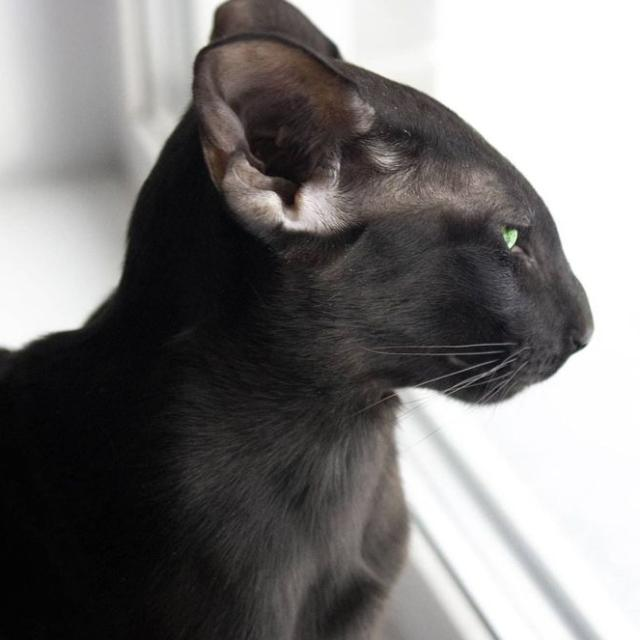Oriental: (0, 0, 599, 640)
